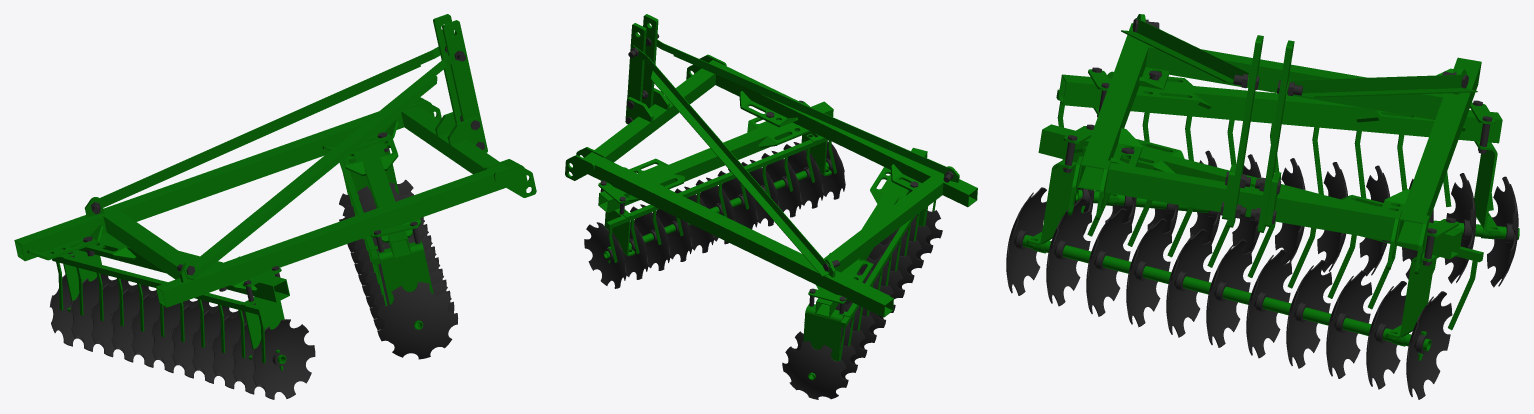
Rendered from Engineering.glb.
The picture shows the model from 3 angles, left to right: view 1: azimuth 30°, elevation 25°; view 2: azimuth 150°, elevation 25°; view 3: azimuth 270°, elevation 25°; orthographic projection. The views are drawn at different scales.
Visible parts, largest first — view 1: Rastra assembly A.1 (Prasanta Bhaina.002; view 2: Rastra assembly A.1 (Prasanta Bhaina.002; view 3: Rastra assembly A.1 (Prasanta Bhaina.002.
Boxes of the visible parts, x1,y1,x2,y2 form: Rastra assembly A.1 (Prasanta Bhaina.002: [14, 14, 536, 399]; Rastra assembly A.1 (Prasanta Bhaina.002: [565, 14, 977, 399]; Rastra assembly A.1 (Prasanta Bhaina.002: [1006, 14, 1519, 399].
Size of the model in its own units: 16.78 by 12.77 by 13.75.
